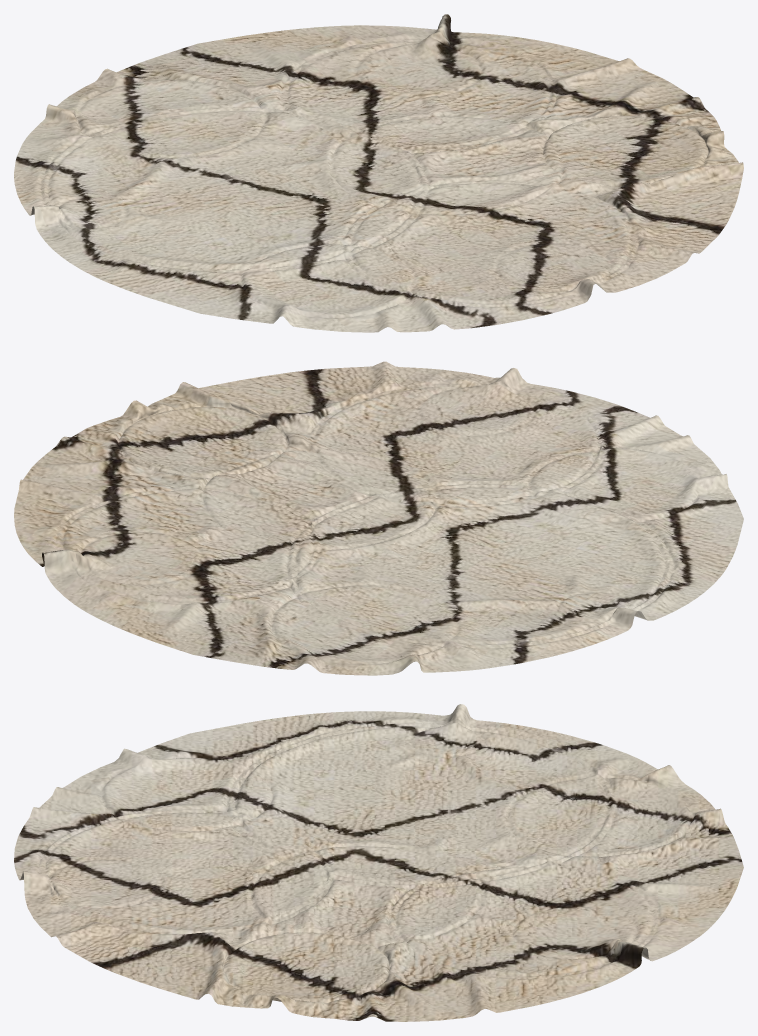
File: carpet3.obj
3 renders of one model, top to bottom at view 1: azimuth 30°, elevation 25°; view 2: azimuth 150°, elevation 25°; view 3: azimuth 270°, elevation 25°, orthographic.
Parts seen in each view (by area): view 1: Mesh1 G_3DGeom_1 default SimLab1 th_m_s_n1 Carpet1 Model; view 2: Mesh1 G_3DGeom_1 default SimLab1 th_m_s_n1 Carpet1 Model; view 3: Mesh1 G_3DGeom_1 default SimLab1 th_m_s_n1 Carpet1 Model.
Part boxes in pixels (x1,y1,x2,y2): Mesh1 G_3DGeom_1 default SimLab1 th_m_s_n1 Carpet1 Model: (14, 14, 743, 332); Mesh1 G_3DGeom_1 default SimLab1 th_m_s_n1 Carpet1 Model: (14, 361, 743, 675); Mesh1 G_3DGeom_1 default SimLab1 th_m_s_n1 Carpet1 Model: (14, 704, 743, 1021).
Size of the model in its own units: 68.06 by 1.74 by 67.58.
